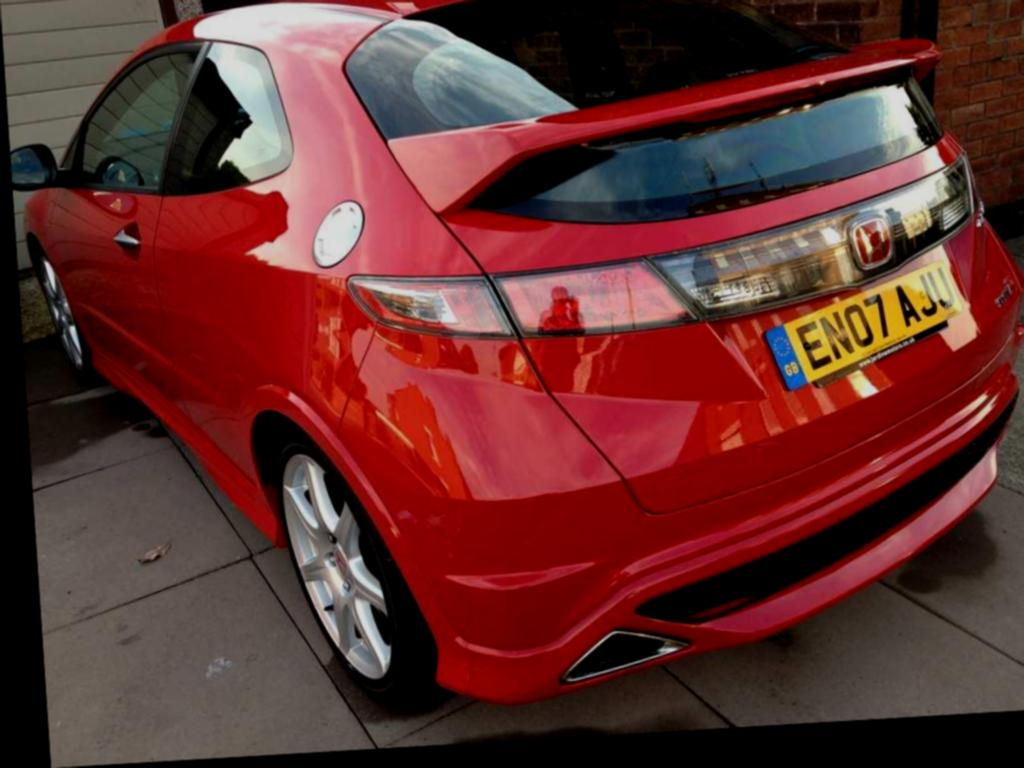License_Plate: (738, 253, 1005, 396)
